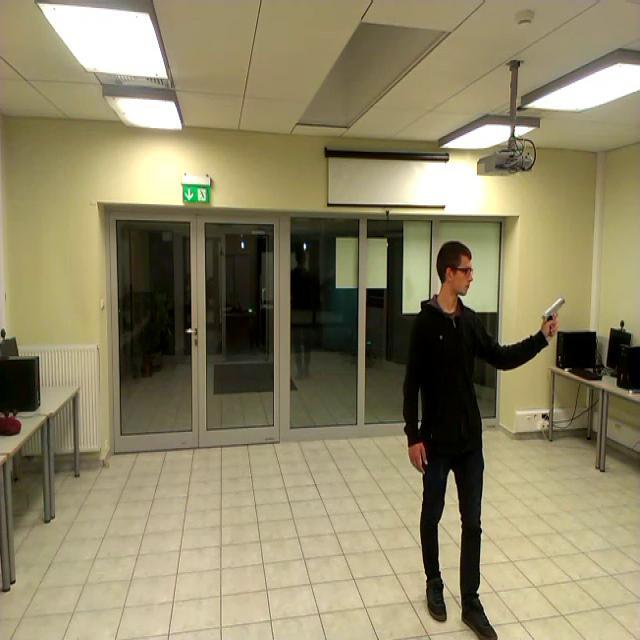Gun: (542, 296, 566, 336)
